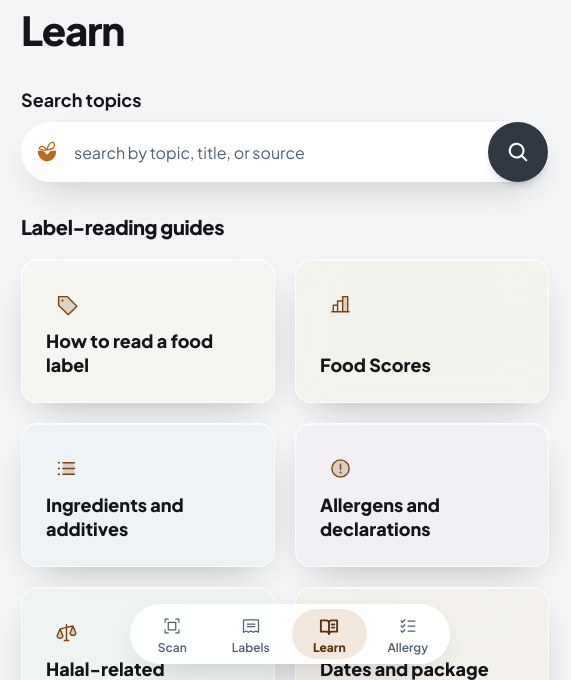
Test case: Learn source content and Allergies demos › renders sourced content inside its category
In the search field labelled "Search topics": (271, 152) [74,123,468,181], type "Law on Food Safety"
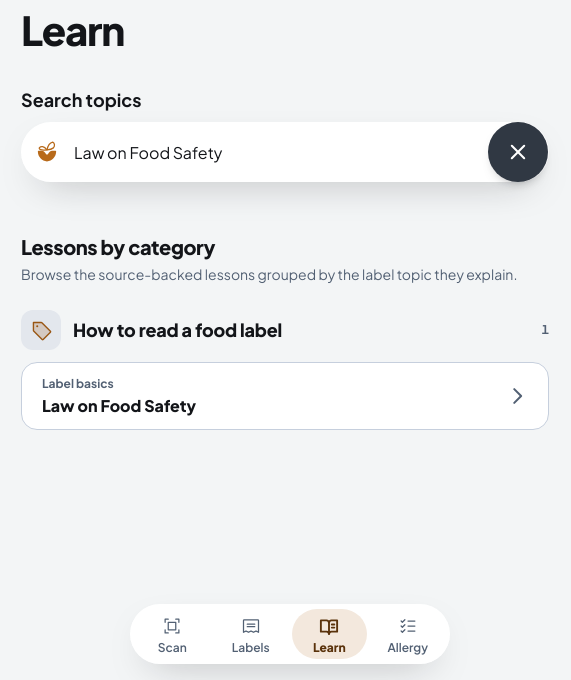
expect the link "Label basics Law on Food Safety" does not show "Cambodia’s framework for food safety, quality, and hygiene": met, box [22,363,548,429]
expect the link "Label basics Law on Food Safety" is shown: met, box [22,363,548,429]
expect the heading "Lessons by category" is shown: met, box [21,234,215,259]
